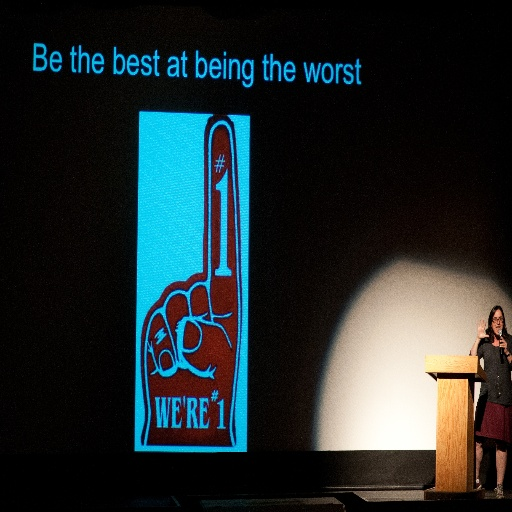hand: (139, 111, 243, 447), (477, 315, 488, 340), (497, 334, 508, 355)
